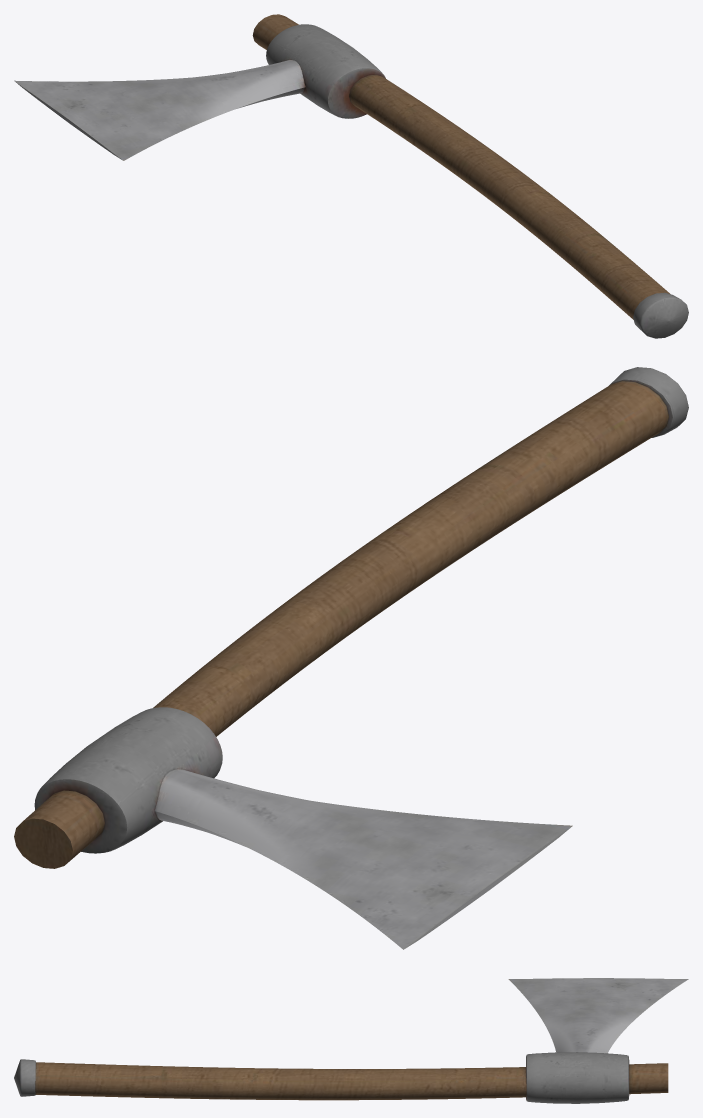
Rendered from francisca.glb.
3 renders of one model, top to bottom at view 1: azimuth 30°, elevation 25°; view 2: azimuth 150°, elevation 25°; view 3: azimuth 270°, elevation 25°, orthographic. The views are drawn at different scales.
Visible parts, largest first — view 1: francisca; view 2: francisca; view 3: francisca.
Boxes of the visible parts, x1,y1,x2,y2 form: francisca: [14, 14, 688, 338]; francisca: [14, 367, 688, 949]; francisca: [14, 978, 688, 1103].
Bounding box in the file's own units: 0.207 × 0.0378 × 0.521.
1 material, 1 textured.
